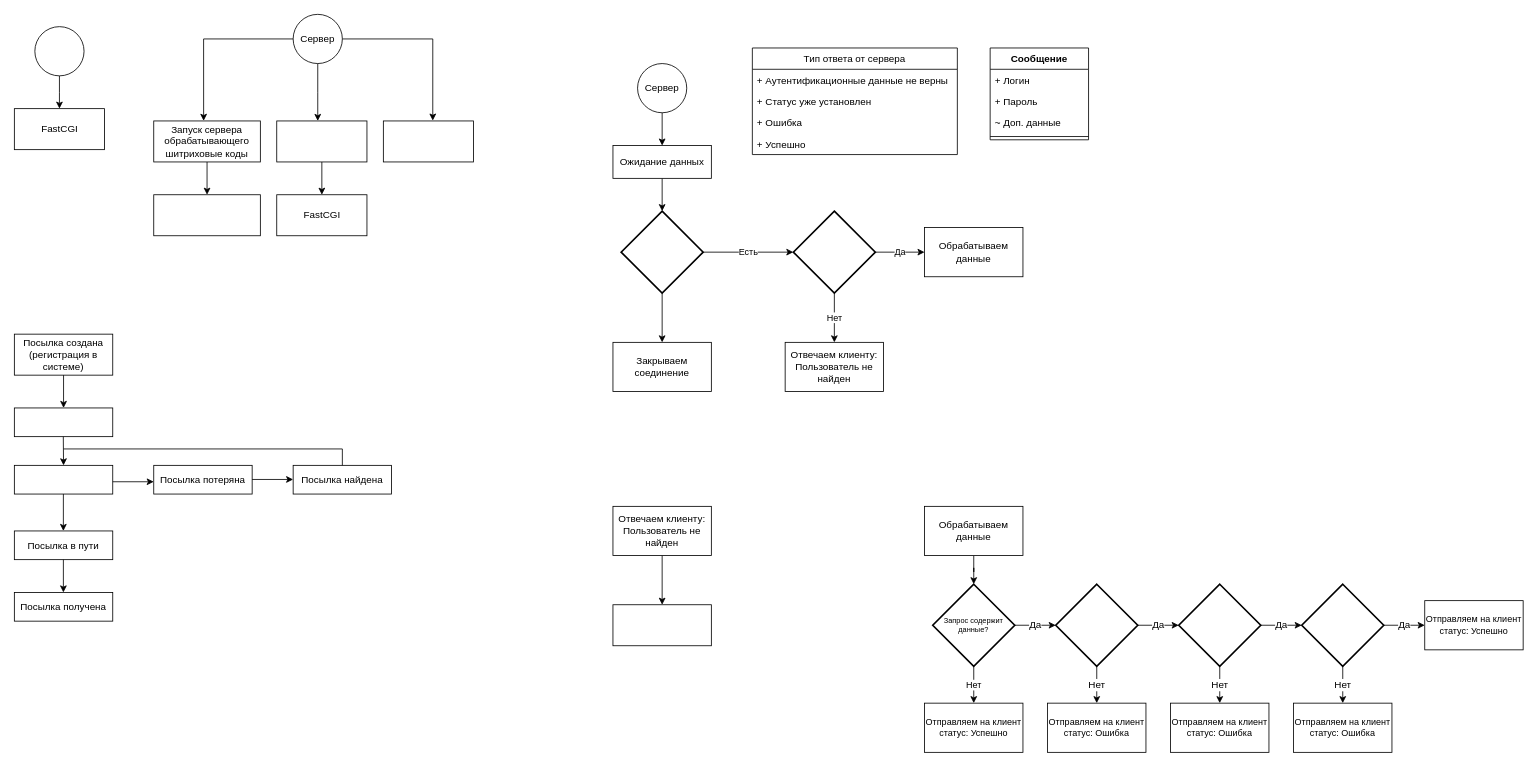
The diagram is 1538 pixels wide and 767 high, and some of its shapes have lost their labels. Each missing label, with the centre of its shape:
Boost Asio: the point at 206,215
Nginx cgi proxy: the point at 59,51
Запрос содержит штриховой код?: the point at 1096,625
Запуск веб сервера: the point at 321,141
Запуск сервера базы данных: the point at 428,141
Логин пароль?: the point at 662,252
Пользователь найден?: the point at 834,252
Посылка в обработке: the point at 63,422
Посылка отправлена: the point at 63,479
Статус штрихового кода валиден?: the point at 1342,625
Тип ответа: Пользователь не найден: the point at 661,625
Штриховой код валиден?: the point at 1219,625
